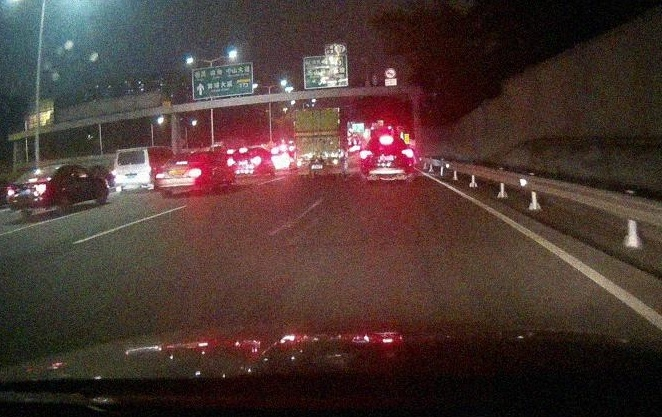L_light: (360, 150, 372, 159), (155, 168, 165, 178), (7, 186, 15, 192), (297, 162, 301, 167)
R_light: (401, 149, 414, 158), (189, 169, 201, 177), (36, 184, 46, 192), (333, 160, 338, 165)
T_light: (380, 138, 393, 142), (176, 161, 187, 165), (28, 178, 37, 182), (312, 110, 322, 112)
night-brake: (359, 135, 414, 184), (6, 166, 58, 216), (155, 151, 206, 198)
night-no: (293, 108, 340, 182)
